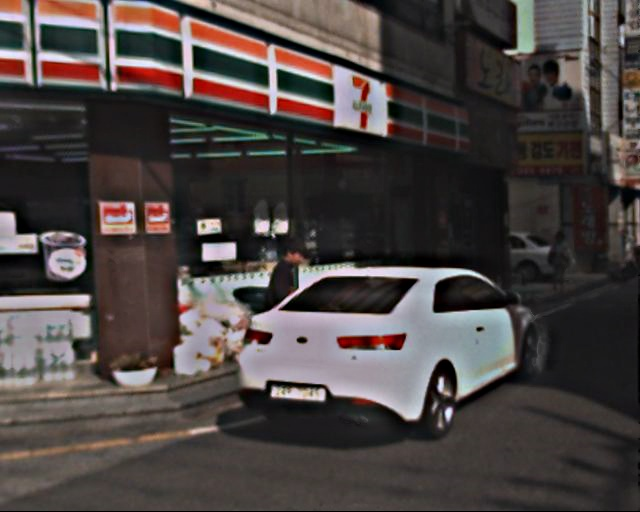person: (266, 231, 323, 371), (548, 230, 586, 298)
